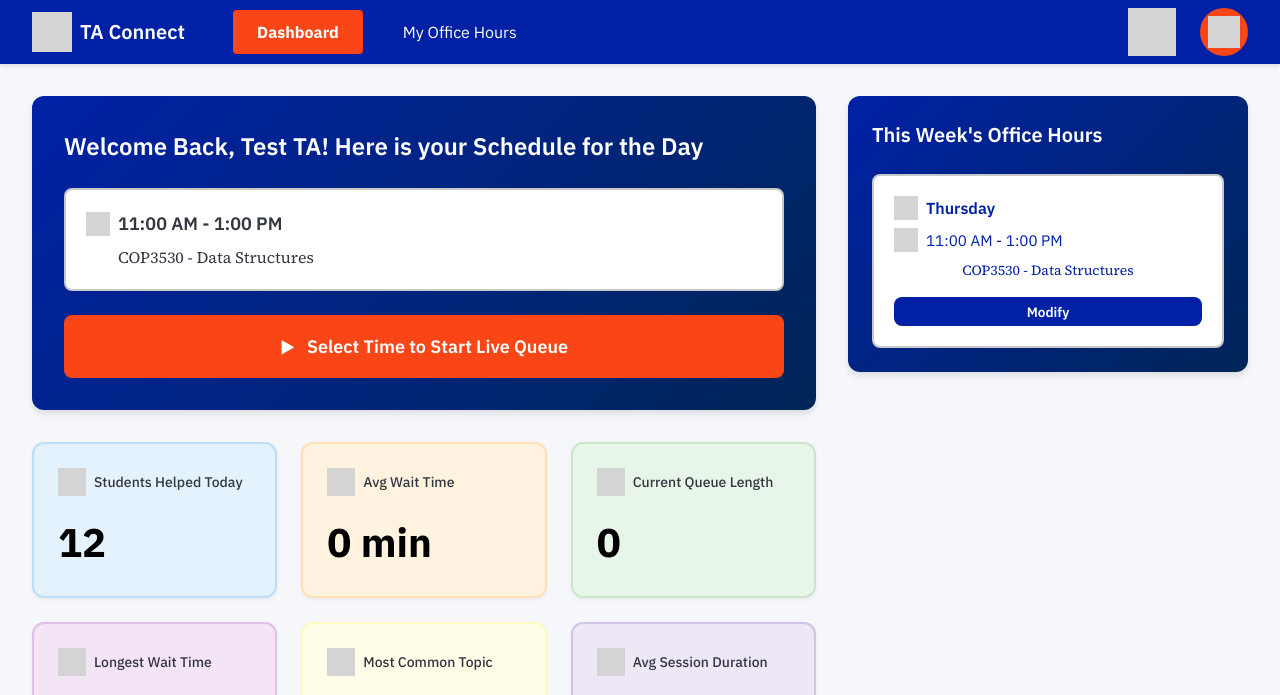
TADashboard page › enables start button after selecting an office-hour card
The width and height of the screenshot is (1280, 695).
Click the text "11:00 AM - 1:00 PM" below "Welcome Back," at (200, 224), box [118,210,282,237]
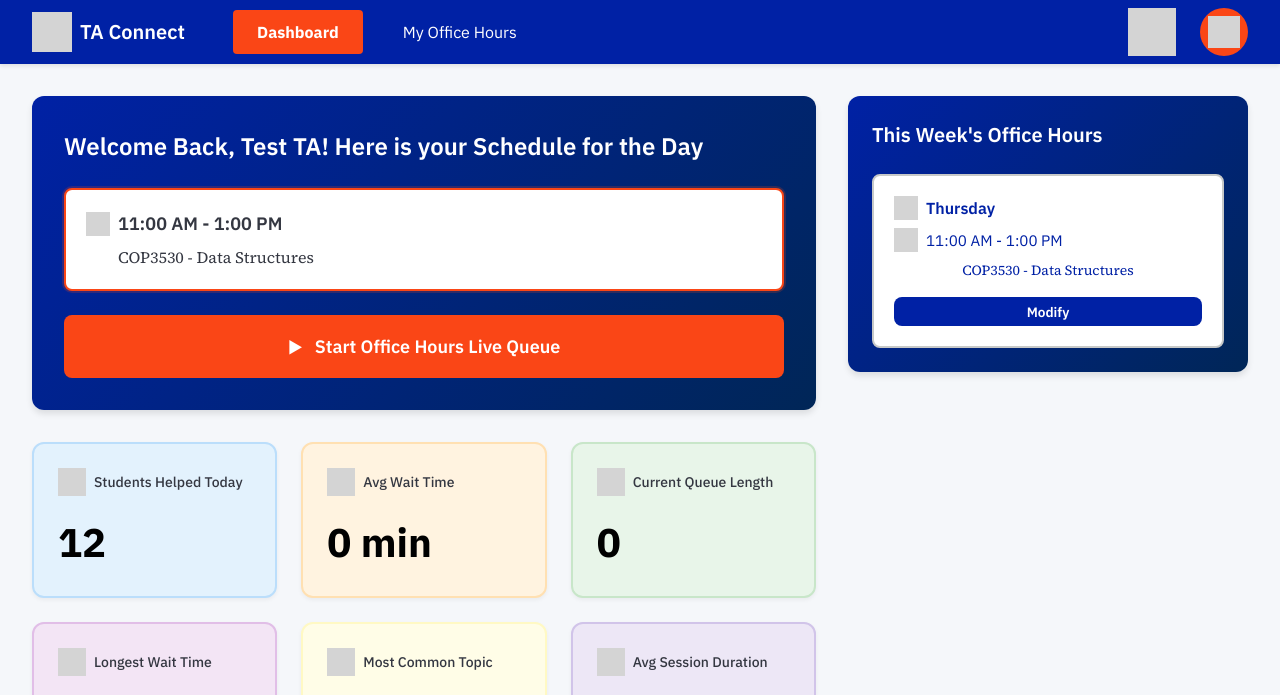
Check: the button "▶ Start Office Hours Live Queue" is enabled, box [64,315,784,378]
